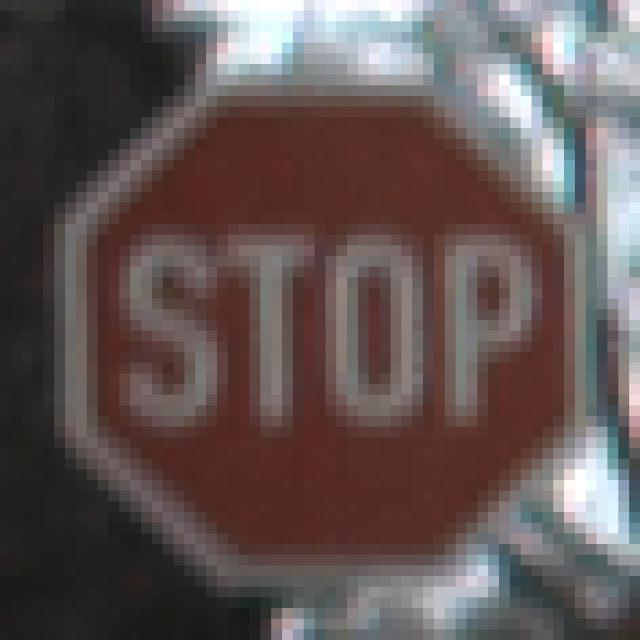STOP: (55, 65, 587, 588)
